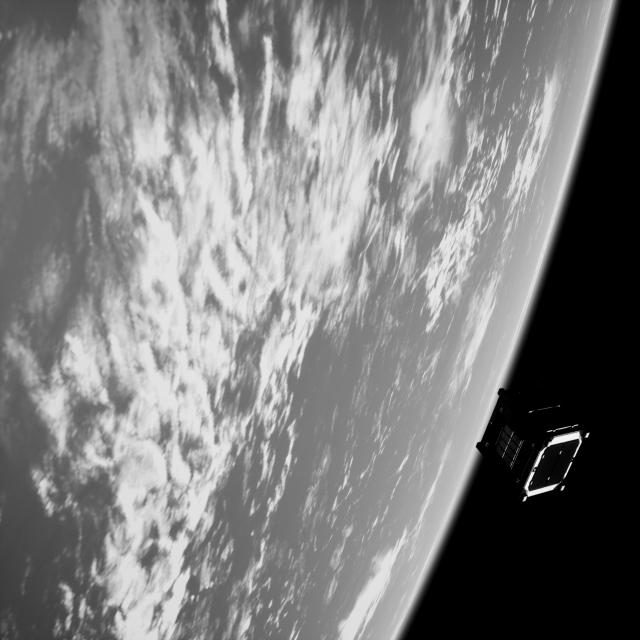satellite: (474, 375, 595, 508)
